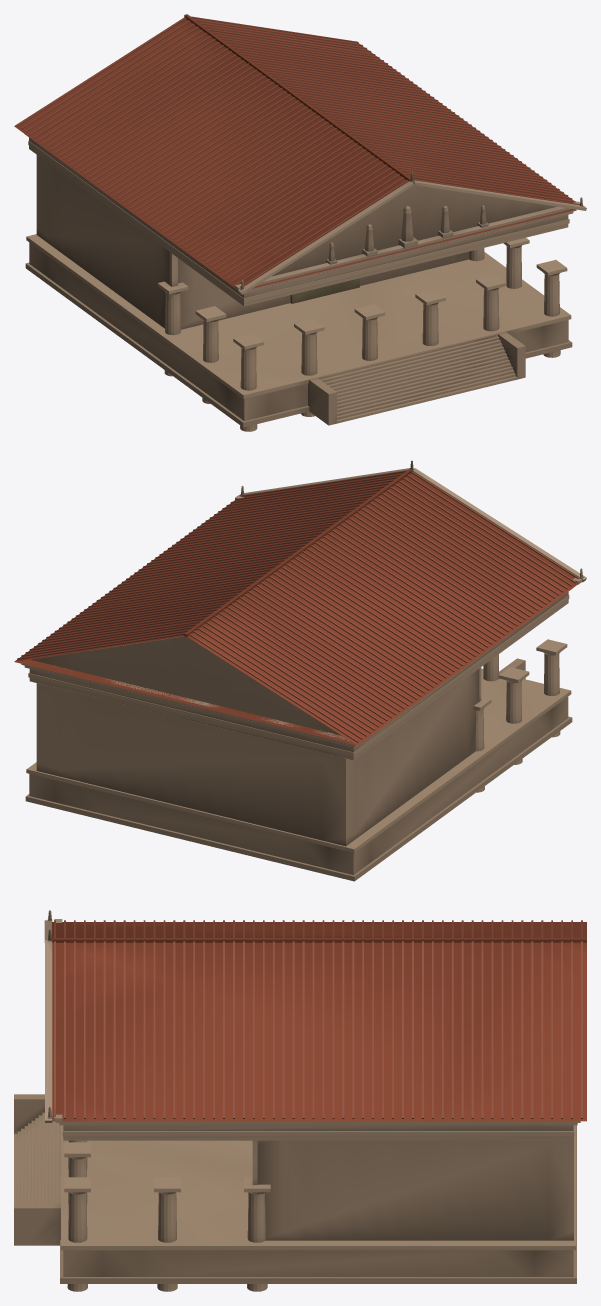
File: temple-of-jupiter-archaic.glb
3 views of the same model, one above another, from view 1: azimuth 30°, elevation 25°; view 2: azimuth 150°, elevation 25°; view 3: azimuth 270°, elevation 25° (orthographic). The views are drawn at different scales.
Parts seen in each view (by area): view 1: p2_roof, p0_podium, p1_columns; view 2: p2_roof, p1_columns, p0_podium; view 3: p2_roof, p0_podium, p1_columns.
Boxes of the visible parts, box(x1,y1,x2,y2) form: p2_roof: box(14, 14, 586, 306); p0_podium: box(25, 234, 572, 427); p1_columns: box(36, 155, 567, 431); p2_roof: box(14, 460, 586, 760); p1_columns: box(36, 639, 567, 846); p0_podium: box(25, 658, 572, 881); p2_roof: box(44, 910, 586, 1140); p0_podium: box(14, 1094, 576, 1283); p1_columns: box(64, 1136, 573, 1291).
Bounding box in the file's own units: 57.56 × 36.25 × 69.62.
